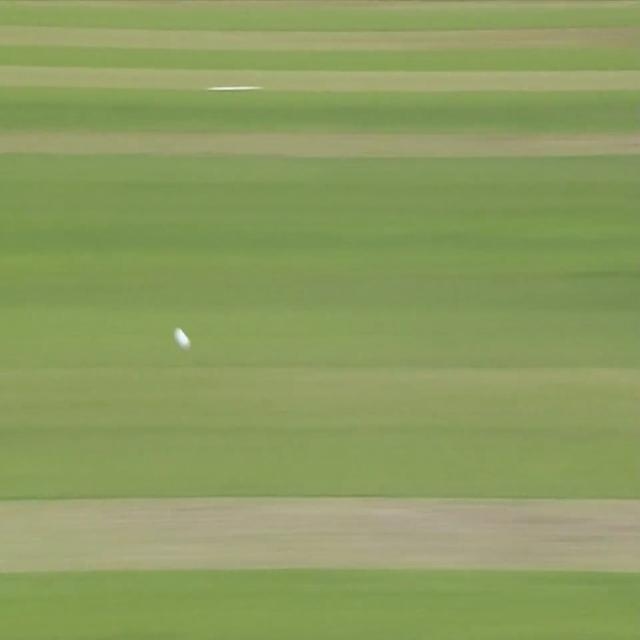ball: (167, 322, 191, 357)
